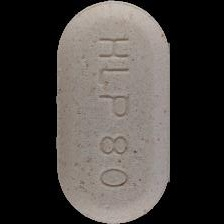0781-5235: (0, 0, 224, 224)
